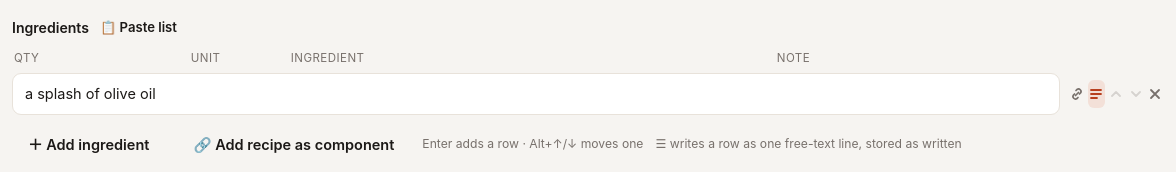
Test: IngredientRows undo + reorder safety › toggling back out keeps the line in the food field
This screenshot has width=1176, height=172.
Click the button named "Write this line as free text" at (1096, 94), box [1088, 80, 1105, 108]
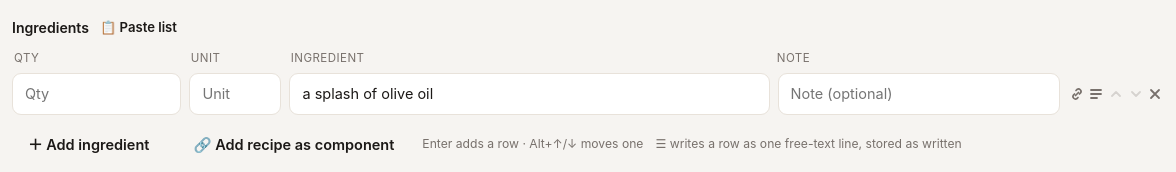
Check: the dropdown named "Ingredient" holds "a splash of olive oil", box [290, 73, 770, 115]
